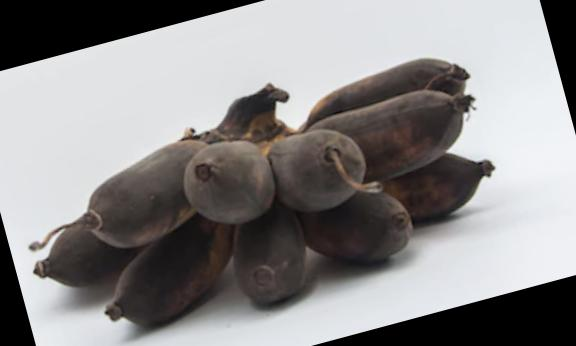Banana Overripe: (5, 43, 545, 341)
